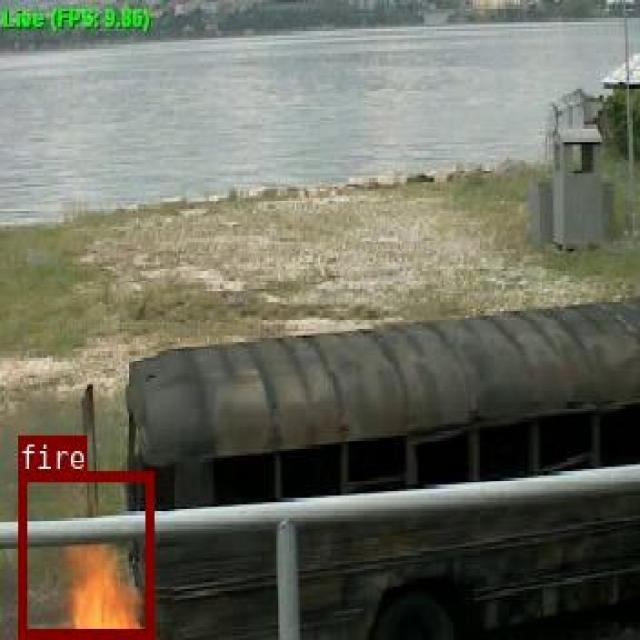fire: (18, 470, 151, 636)
